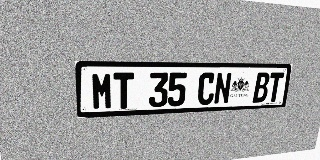3: (149, 72, 169, 107)
5: (168, 72, 187, 107)
B: (252, 72, 271, 103)
C: (197, 72, 216, 105)
M: (91, 72, 113, 110)
N: (213, 72, 232, 104)
T: (113, 72, 134, 109), (266, 72, 284, 102)
